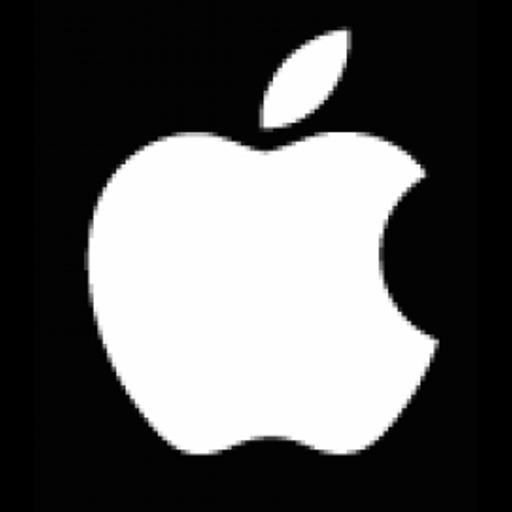Apple: (35, 0, 477, 512)
